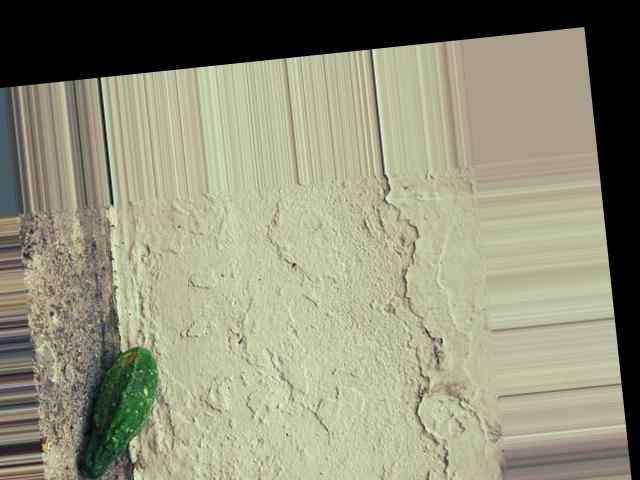cucumber: (68, 344, 168, 478)
